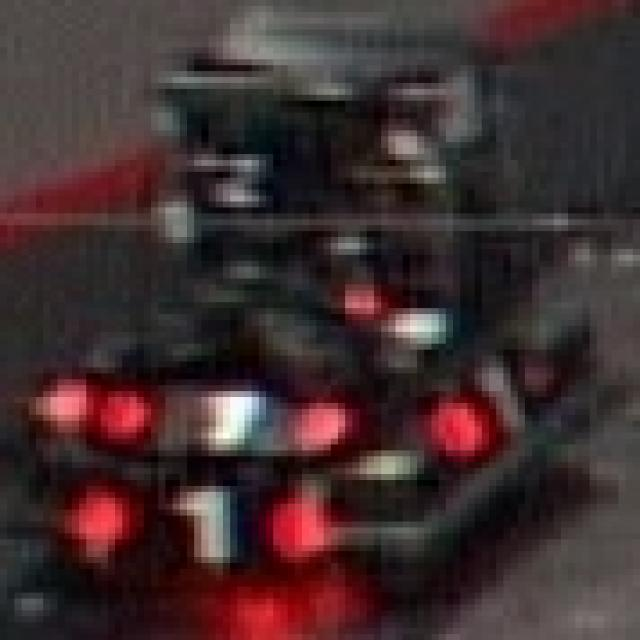R1: (47, 459, 349, 578), (83, 353, 356, 465), (403, 308, 568, 445)
